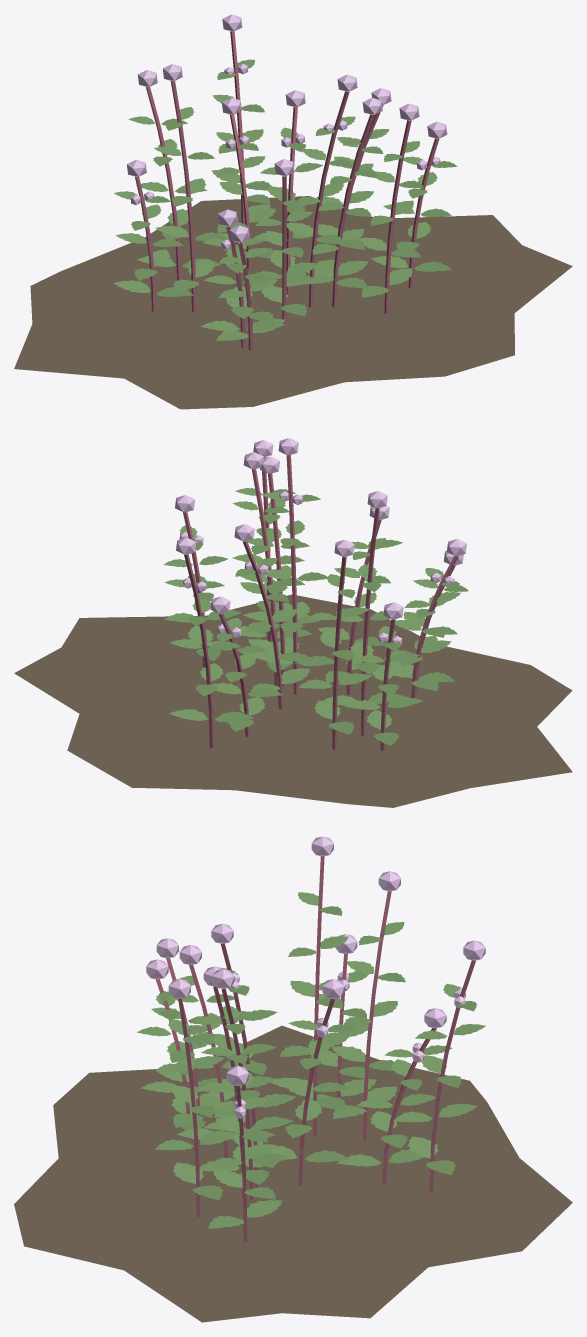
The model's file is water_mint.glb.
The picture shows the model from 3 angles, top to bottom: view 1: azimuth 30°, elevation 25°; view 2: azimuth 150°, elevation 25°; view 3: azimuth 270°, elevation 25°; orthographic projection. The views are drawn at different scales.
Parts seen in each view (by area): view 1: water_mint__flower__habitat_wet_margin_pad, water_mint__flower__leaves, water_mint__flower__stems, water_mint__flower__flowers; view 2: water_mint__flower__habitat_wet_margin_pad, water_mint__flower__leaves, water_mint__flower__stems, water_mint__flower__flowers; view 3: water_mint__flower__habitat_wet_margin_pad, water_mint__flower__leaves, water_mint__flower__stems, water_mint__flower__flowers.
Boxes of the visible parts, left/top/right/bottom form: water_mint__flower__habitat_wet_margin_pad: left=14, top=196, right=572, bottom=409; water_mint__flower__leaves: left=113, top=59, right=457, bottom=340; water_mint__flower__stems: left=135, top=31, right=439, bottom=350; water_mint__flower__flowers: left=126, top=14, right=447, bottom=250; water_mint__flower__habitat_wet_margin_pad: left=14, top=594, right=572, bottom=807; water_mint__flower__leaves: left=163, top=488, right=468, bottom=745; water_mint__flower__stems: left=183, top=455, right=458, bottom=750; water_mint__flower__flowers: left=175, top=438, right=466, bottom=644; water_mint__flower__habitat_wet_margin_pad: left=14, top=1025, right=572, bottom=1322; water_mint__flower__leaves: left=137, top=892, right=485, bottom=1228; water_mint__flower__stems: left=155, top=856, right=475, bottom=1242; water_mint__flower__flowers: left=146, top=836, right=485, bottom=1118.
Bounding box in the file's own units: 1.01 × 0.4632 × 0.8064.
